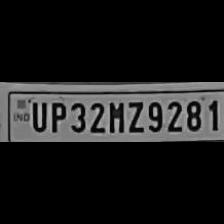1: (204, 96, 222, 132)
2: (87, 99, 105, 134), (164, 97, 182, 132)
3: (68, 99, 86, 133)
8: (182, 96, 202, 132)
9: (144, 99, 162, 133)
M: (105, 99, 124, 134)
P: (47, 99, 67, 134)
U: (28, 99, 46, 133)
Z: (124, 98, 144, 134)
